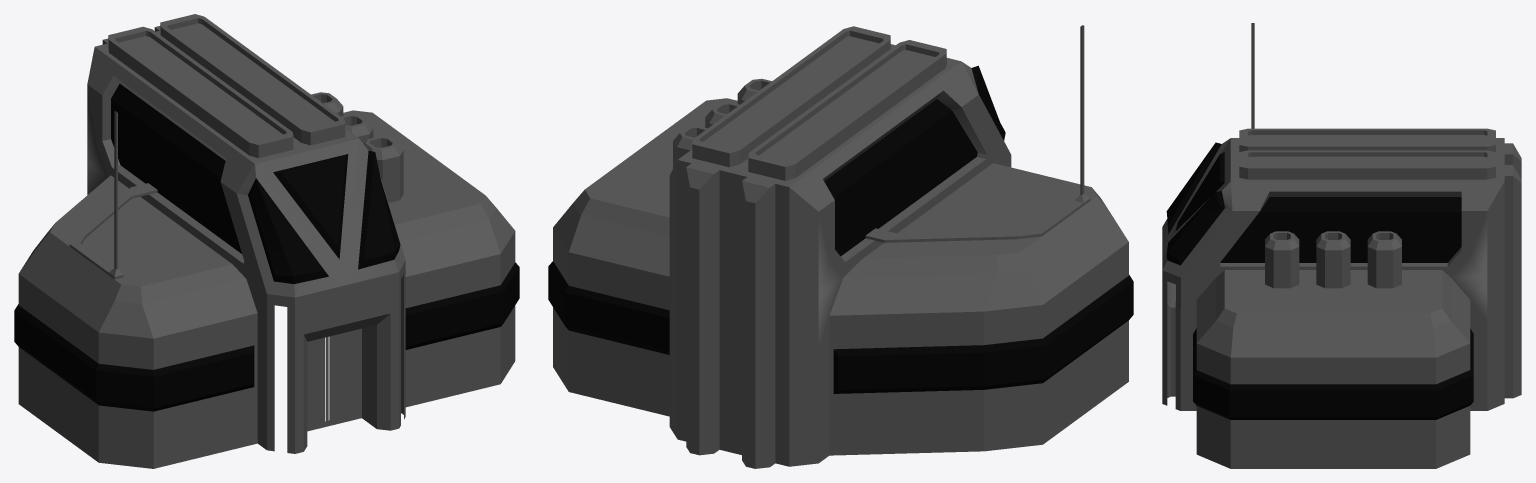
File: Apartment_lvl1_1.dae
3 views of the same model, side by side, from view 1: azimuth 30°, elevation 25°; view 2: azimuth 150°, elevation 25°; view 3: azimuth 270°, elevation 25° (orthographic). The views are drawn at different scales.
Parts seen in each view (by area): view 1: Apartment_lvl1_1; view 2: Apartment_lvl1_1; view 3: Apartment_lvl1_1.
Boxes of the visible parts, box(x1,y1,x2,y2) form: Apartment_lvl1_1: box(14, 14, 519, 468); Apartment_lvl1_1: box(548, 25, 1133, 468); Apartment_lvl1_1: box(1162, 23, 1521, 468).
Bounding box in the file's own units: 21.5 × 18.5 × 16.69.
